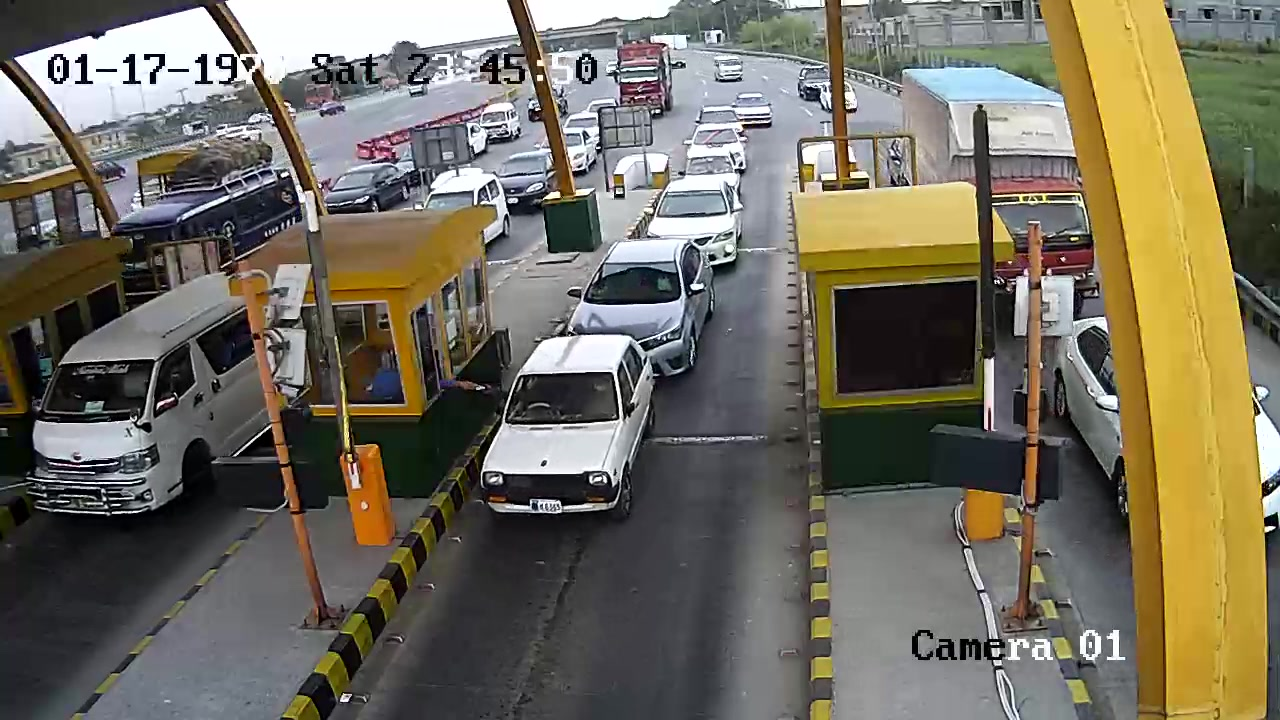F1: (476, 330, 669, 532)
